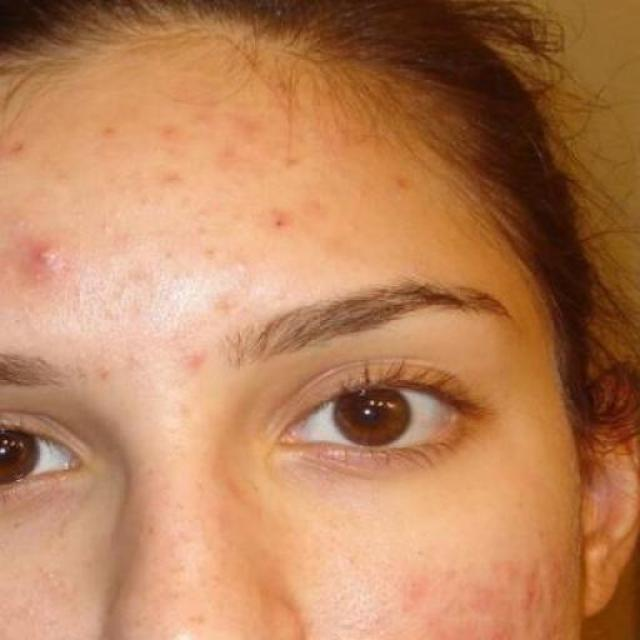Acne: (0, 100, 414, 376)
